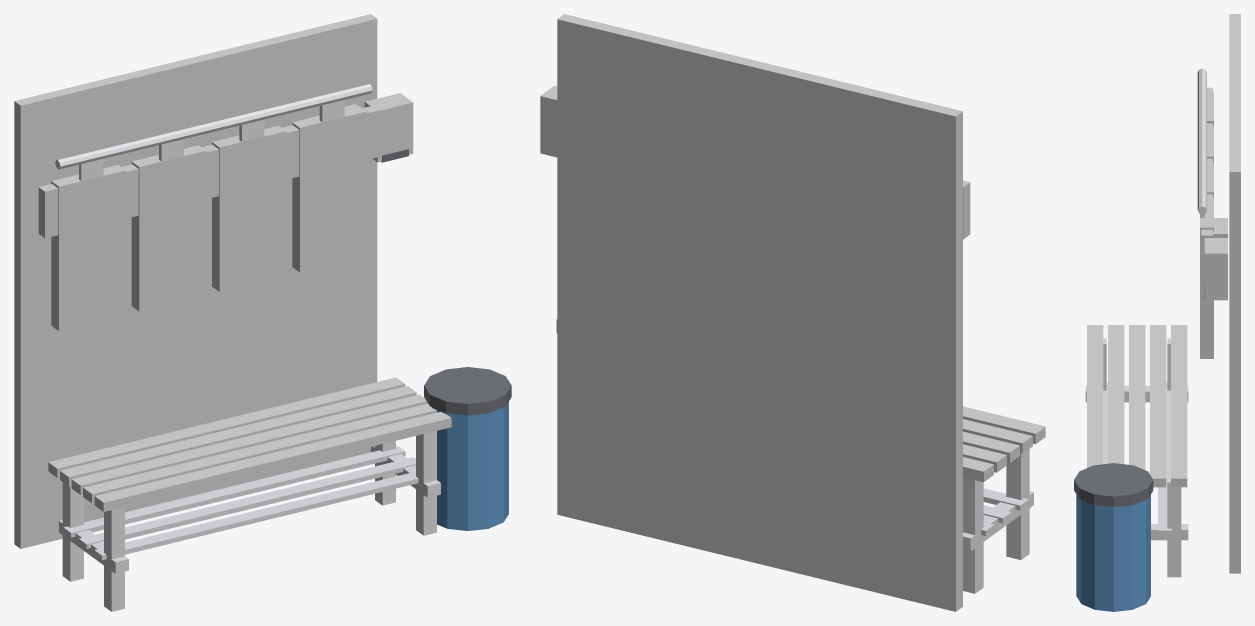
File: vertical-farm-and-hydroponics-tower-vertical-farm-and--ce183864__38387.glb
The picture shows the model from 3 angles, left to right: view 1: azimuth 30°, elevation 25°; view 2: azimuth 150°, elevation 25°; view 3: azimuth 270°, elevation 25°; orthographic projection. The views are drawn at different scales.
Visible parts, largest first — view 1: vertical-farm-and-hydroponics-tower-gowning-bench; view 2: vertical-farm-and-hydroponics-tower-gowning-bench; view 3: vertical-farm-and-hydroponics-tower-gowning-bench.
Boxes of the visible parts, x1=… form: vertical-farm-and-hydroponics-tower-gowning-bench: x1=14, y1=14, x2=511, y2=611; vertical-farm-and-hydroponics-tower-gowning-bench: x1=540, y1=14, x2=1045, y2=611; vertical-farm-and-hydroponics-tower-gowning-bench: x1=1074, y1=14, x2=1240, y2=611.
Bounding box in the file's own units: 1.89 × 1.95 × 0.715.
